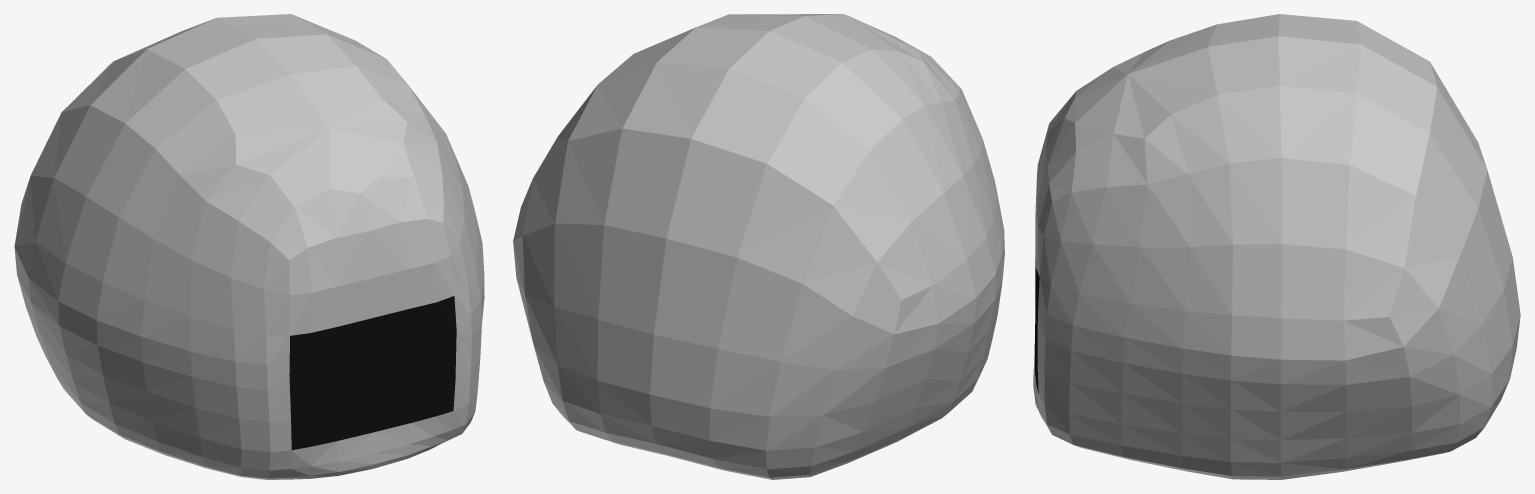
File: helm_tytusa.fbx
3 views of the same model, side by side, from view 1: azimuth 30°, elevation 25°; view 2: azimuth 150°, elevation 25°; view 3: azimuth 270°, elevation 25° (orthographic). The views are drawn at different scales.
Visible parts, largest first — view 1: Cube; view 2: Cube; view 3: Cube.
Boxes of the visible parts, bbox=[...] form: Cube: bbox=[14, 14, 484, 479]; Cube: bbox=[513, 14, 1004, 479]; Cube: bbox=[1033, 14, 1520, 479].
Bounding box in the file's own units: 26.53 × 21.81 × 26.35.
